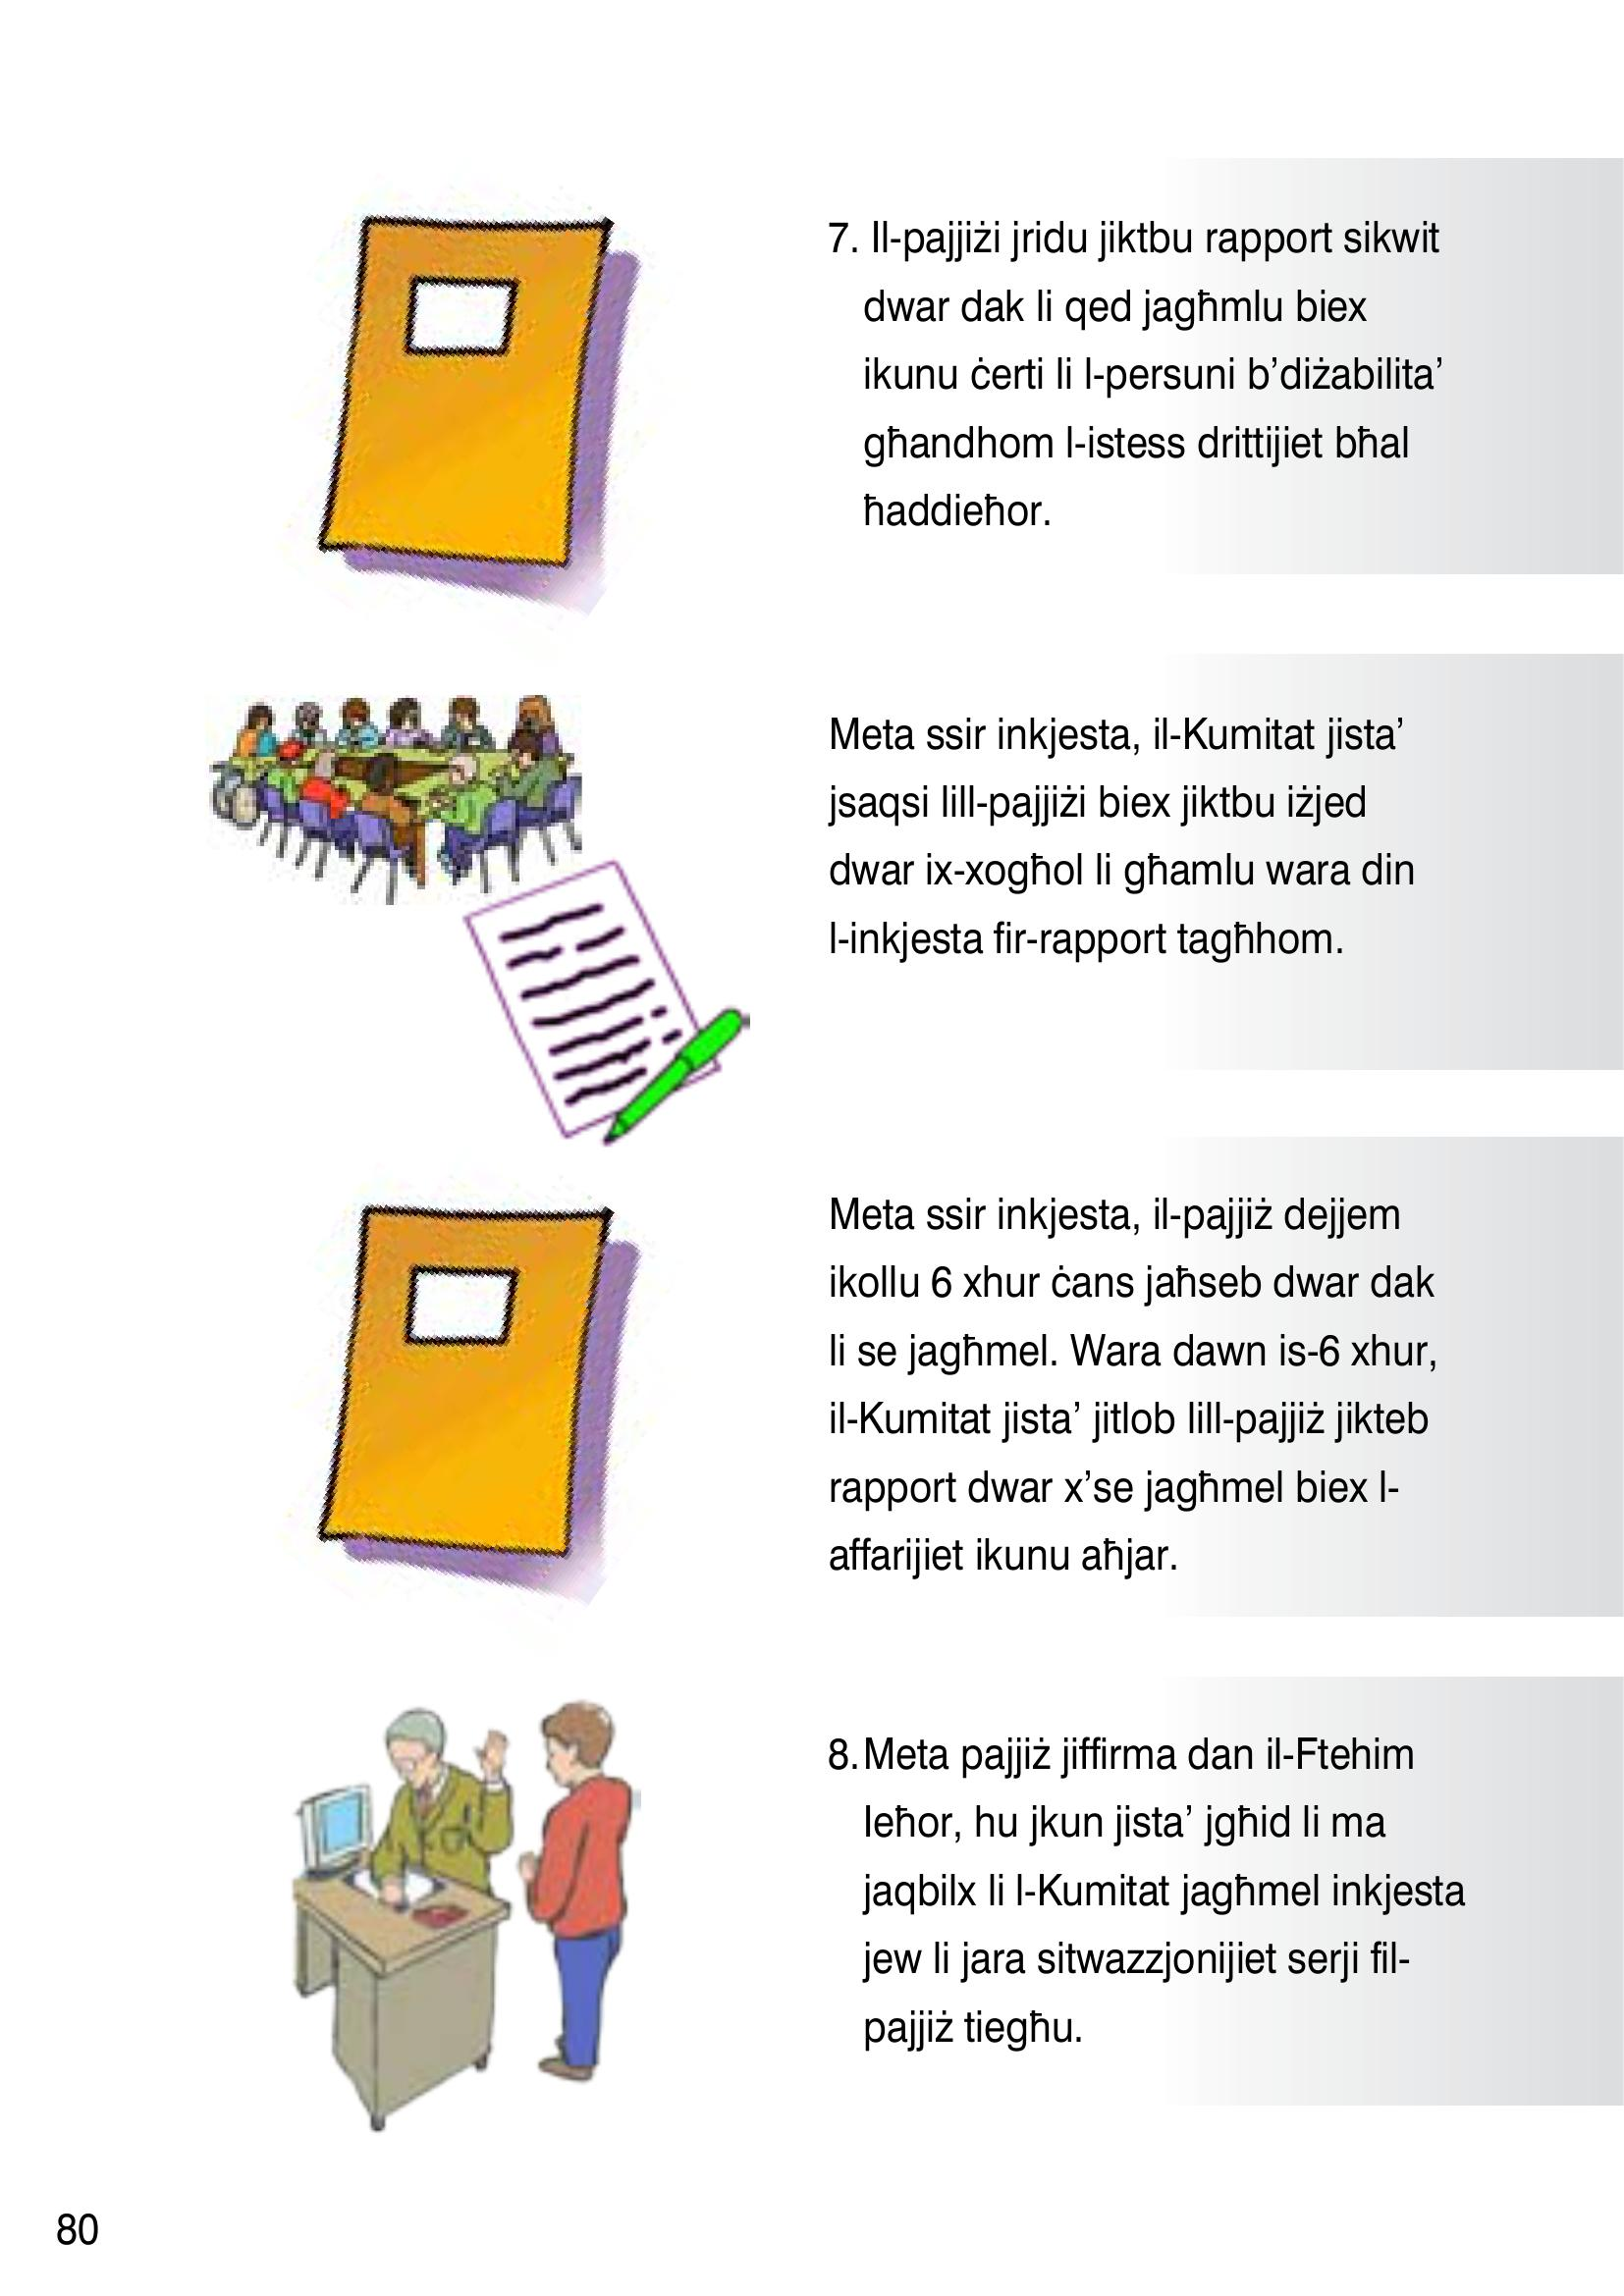text: (796, 197, 1501, 2076)
